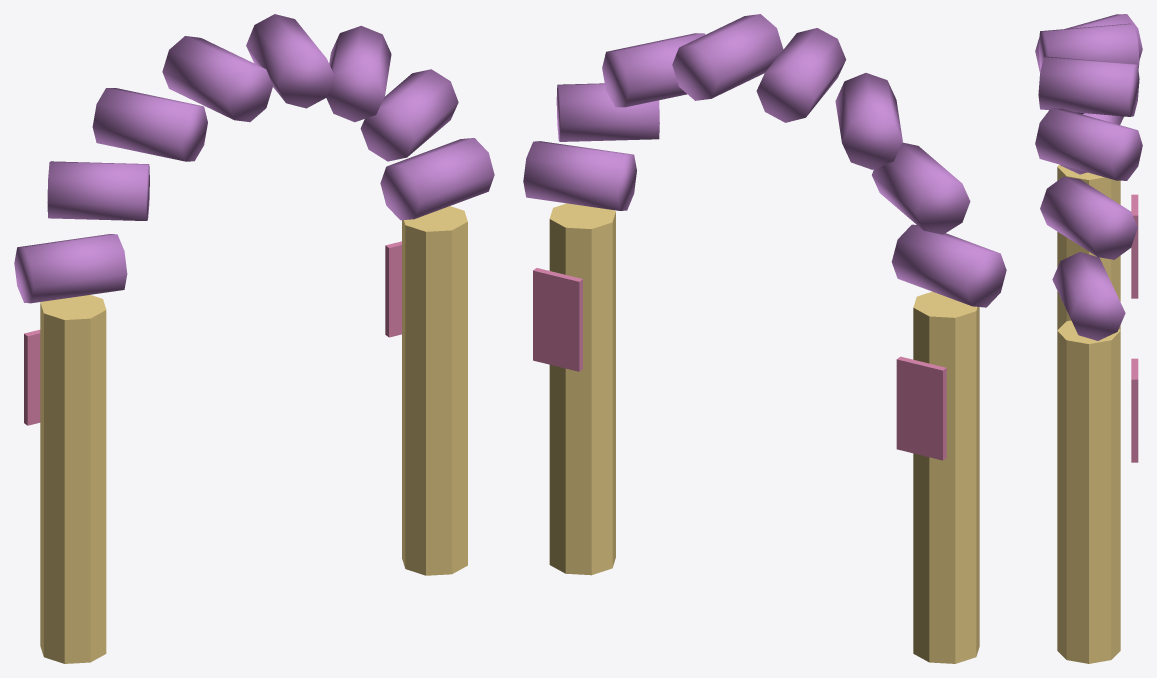
Rendered from Deco_ArchGate.fbx.
3 views of the same model, side by side, from view 1: azimuth 30°, elevation 25°; view 2: azimuth 150°, elevation 25°; view 3: azimuth 270°, elevation 25° (orthographic). The views are drawn at different scales.
Visible parts, largest first — view 1: Deco_ArchGate, Deco_ArchGate_Pillar_-1; view 2: Deco_ArchGate, Deco_ArchGate_Pillar_-1; view 3: Deco_ArchGate, Deco_ArchGate_Pillar_-1.
Boxes of the visible parts, bbox=[...] form: Deco_ArchGate: bbox=[14, 14, 494, 575]; Deco_ArchGate_Pillar_-1: bbox=[40, 295, 106, 663]; Deco_ArchGate: bbox=[523, 14, 1006, 575]; Deco_ArchGate_Pillar_-1: bbox=[913, 291, 979, 663]; Deco_ArchGate: bbox=[1035, 14, 1142, 663]; Deco_ArchGate_Pillar_-1: bbox=[1057, 164, 1120, 330].
Size of the model in its own units: 1.4 by 1.64 by 0.3053.
